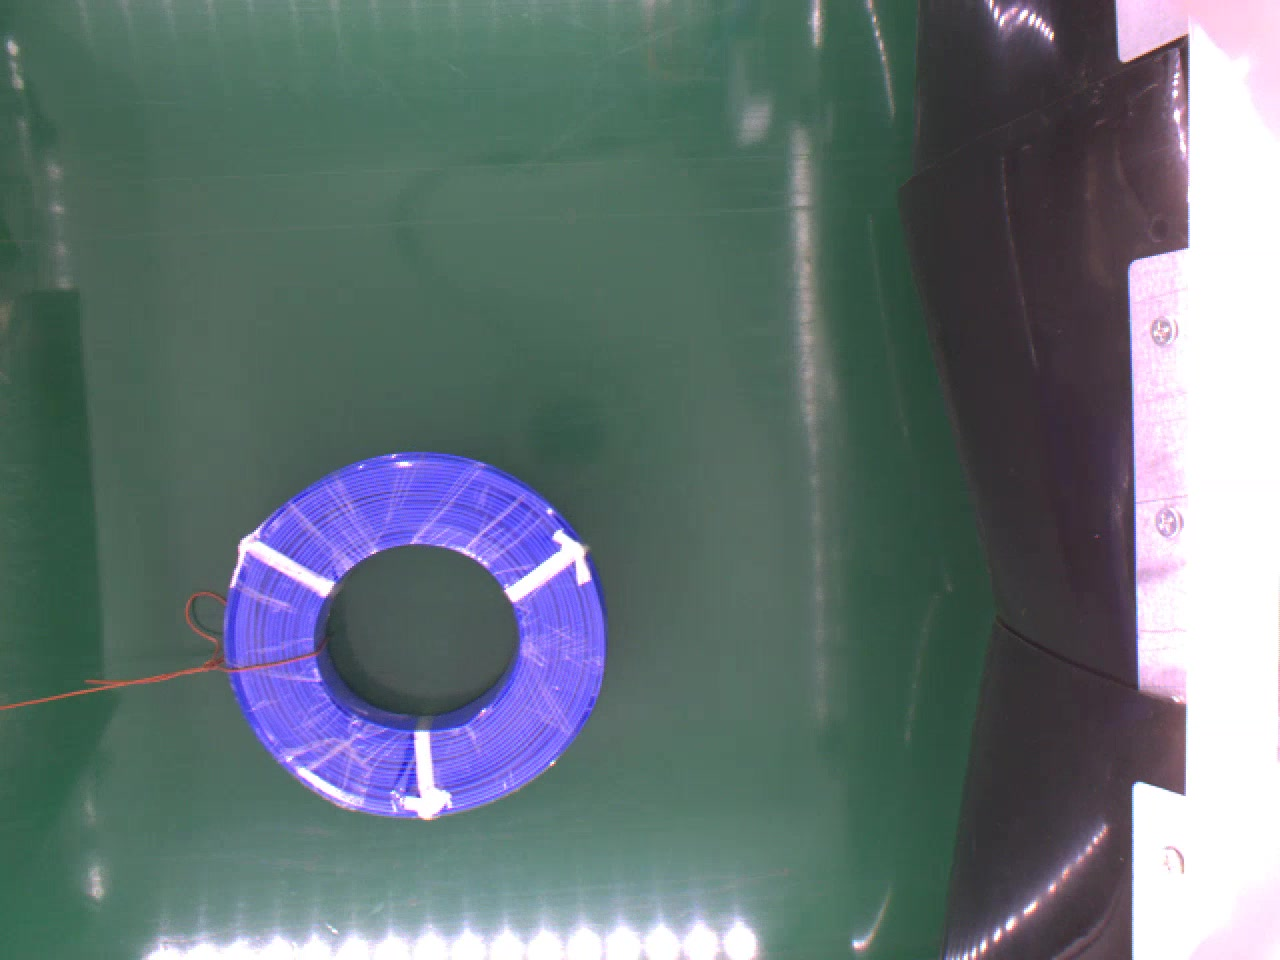blue: (220, 448, 610, 823)
